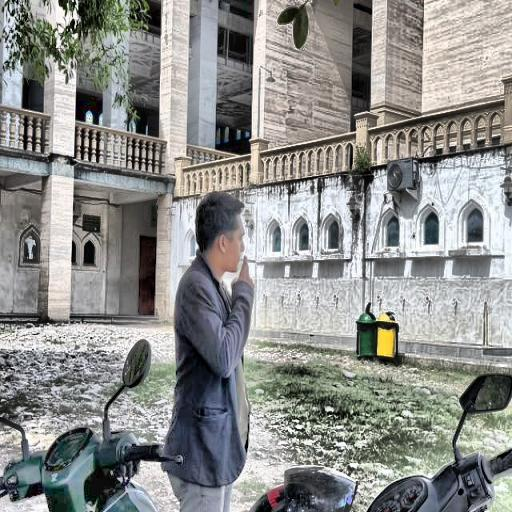Rokok: (204, 215, 252, 285)
